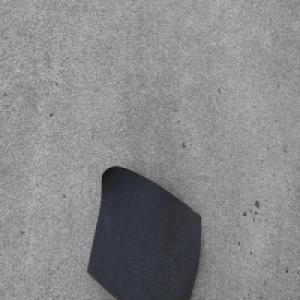PaintChip: (86, 164, 202, 300)
